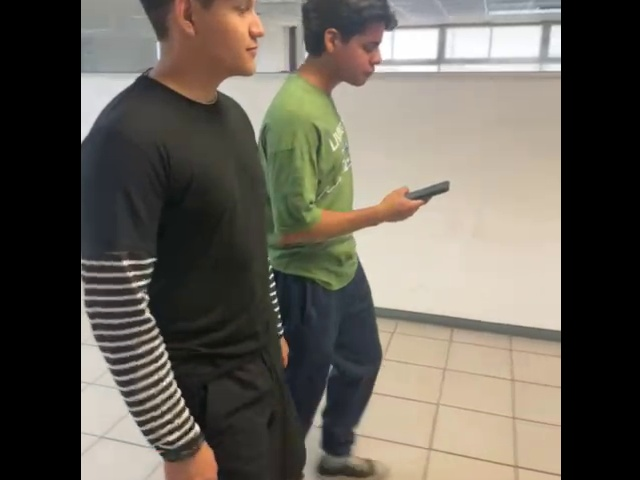mixto2: (400, 175, 451, 204)
